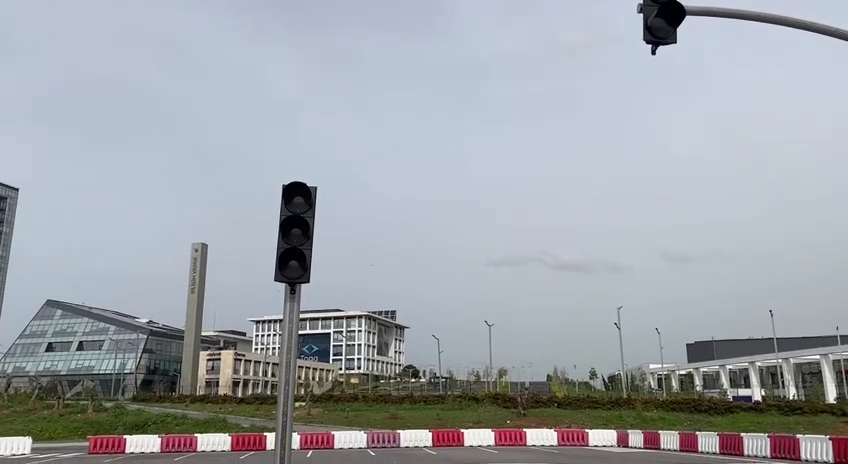trafficLight: (271, 177, 321, 289), (635, 1, 690, 57)
